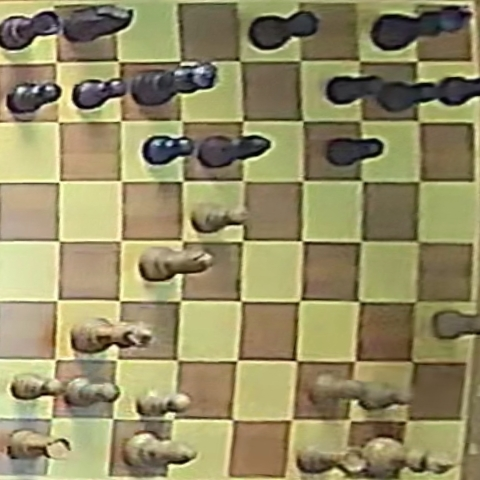black-bishop: (197, 134, 270, 168)
black-king: (373, 6, 470, 51)
black-knight: (63, 5, 131, 43)
black-pawn: (377, 79, 444, 112), (6, 81, 61, 117), (328, 75, 387, 106), (325, 137, 383, 167), (73, 79, 126, 110), (143, 135, 195, 166), (435, 76, 478, 106)
black-queen: (129, 62, 216, 106)
black-rook: (250, 10, 319, 50), (1, 10, 62, 51)
white-bishop: (123, 431, 195, 471), (140, 245, 214, 280)
white-king: (358, 436, 455, 477)
white-pawn: (192, 202, 250, 232), (136, 388, 192, 418), (65, 377, 120, 407), (310, 374, 362, 405), (356, 381, 411, 410), (12, 373, 65, 400), (433, 310, 479, 340)
white-queen: (73, 317, 151, 352)
white-rook: (298, 445, 363, 475), (6, 430, 71, 460)
